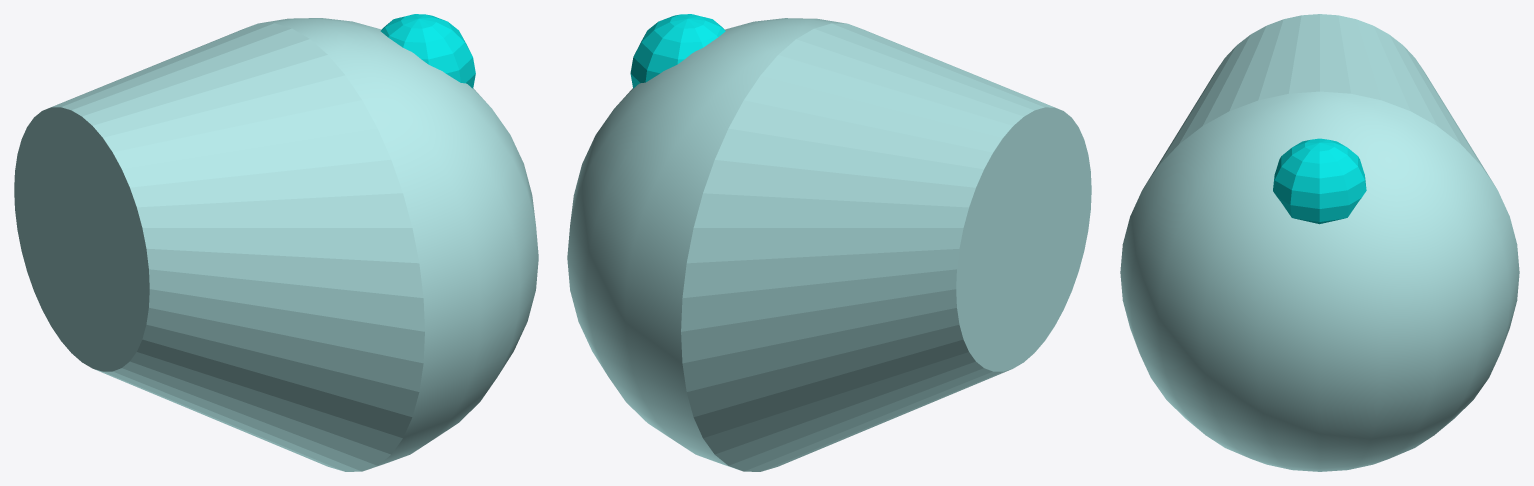
The model's file is coreunit_01_fist_incolor.fbx.
3 renders of one model, left to right at view 1: azimuth 30°, elevation 25°; view 2: azimuth 150°, elevation 25°; view 3: azimuth 270°, elevation 25°, orthographic. The views are drawn at different scales.
Visible parts, largest first — view 1: polySurface1; view 2: polySurface1; view 3: polySurface1.
Part boxes in pixels (box(x1,y1,x2,y2)): polySurface1: box(14, 14, 538, 471); polySurface1: box(567, 14, 1091, 471); polySurface1: box(1120, 14, 1519, 471).
Bounding box in the file's own units: 0.8576 × 0.8 × 0.8.
